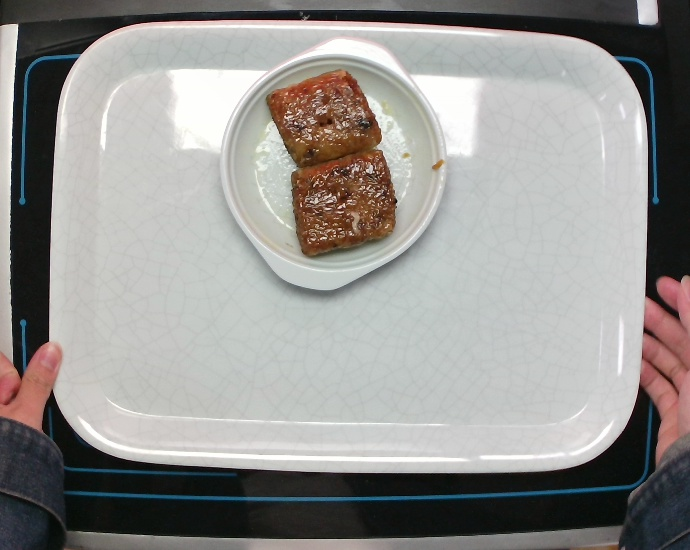JYsf-Shuang_Er_Pan: (218, 32, 449, 293)
